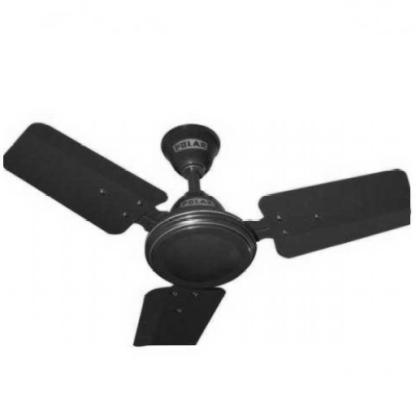ceiling-fan: (3, 120, 411, 346)
